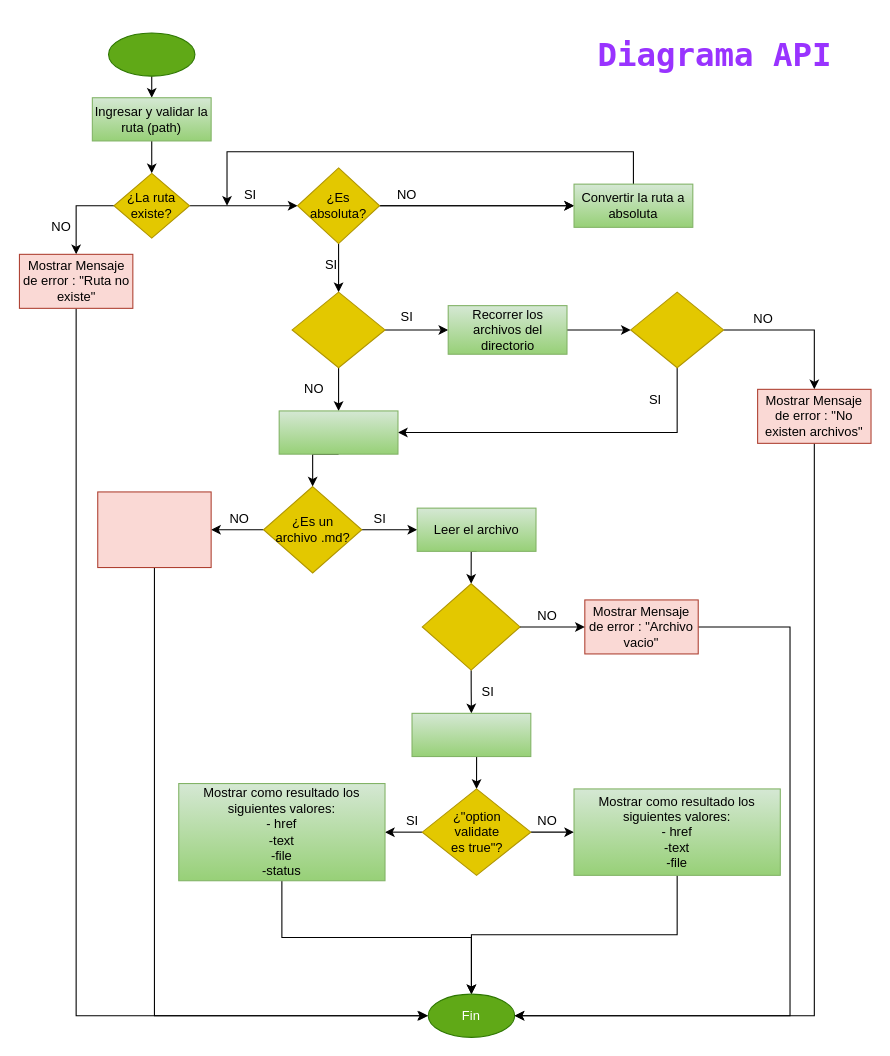
Some shapes in this 890 by 1056 pixel diagram are drawn without their labels. The shapes that lost their labels are listed below. From the top down, each one's centre as x and y in pixels, then its label:
point (151, 54): Inicio
point (338, 329): ¿Es un directorio?
point (677, 329): ¿hay archivos?
point (338, 432): Validar si es un archivo .md
point (154, 529): Mostrar Mensaje de error : "No se encontro archivo .md"
point (470, 626): ¿Contiene links?
point (471, 734): Almacenar los valores
